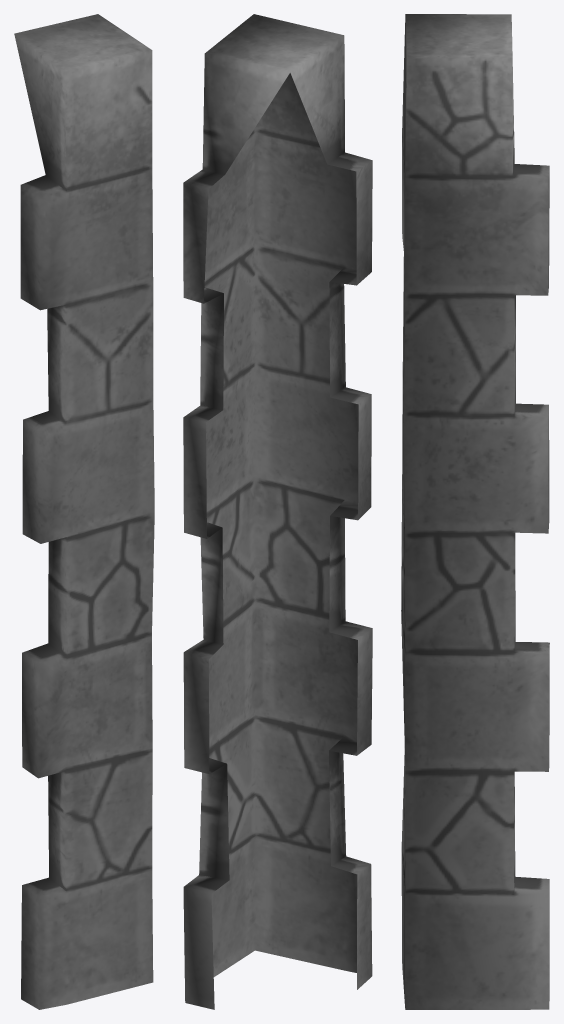
Rendered from CornerPillar_LP.fbx.
3 renders of one model, left to right at view 1: azimuth 30°, elevation 25°; view 2: azimuth 150°, elevation 25°; view 3: azimuth 270°, elevation 25°, orthographic. The views are drawn at different scales.
Parts seen in each view (by area): view 1: CornerPillar_LP; view 2: CornerPillar_LP; view 3: CornerPillar_LP.
Part boxes in pixels (box(x1,y1,x2,y2)): CornerPillar_LP: box(14, 14, 154, 1009); CornerPillar_LP: box(183, 14, 372, 1009); CornerPillar_LP: box(401, 14, 549, 1009).
Bounding box in the file's own units: 27.03 × 201 × 28.39.
1 material, 1 textured.
